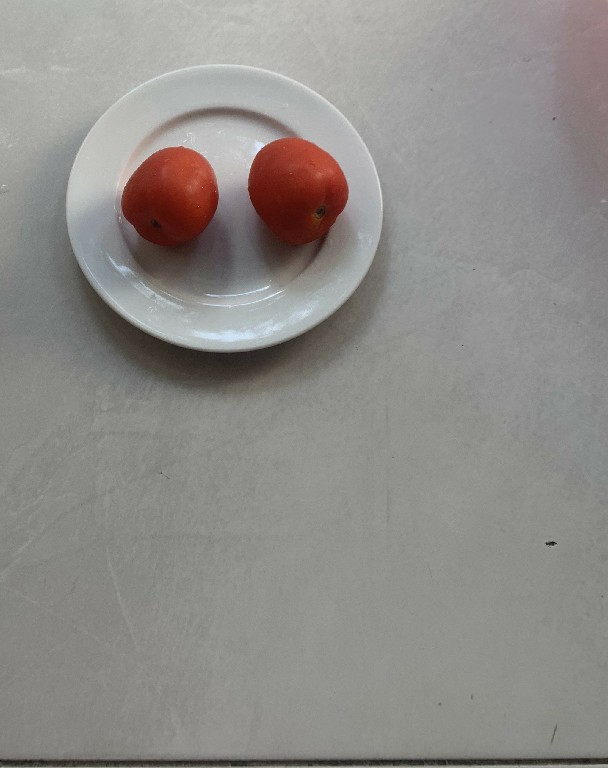OK: (114, 139, 217, 251), (250, 133, 344, 246)
